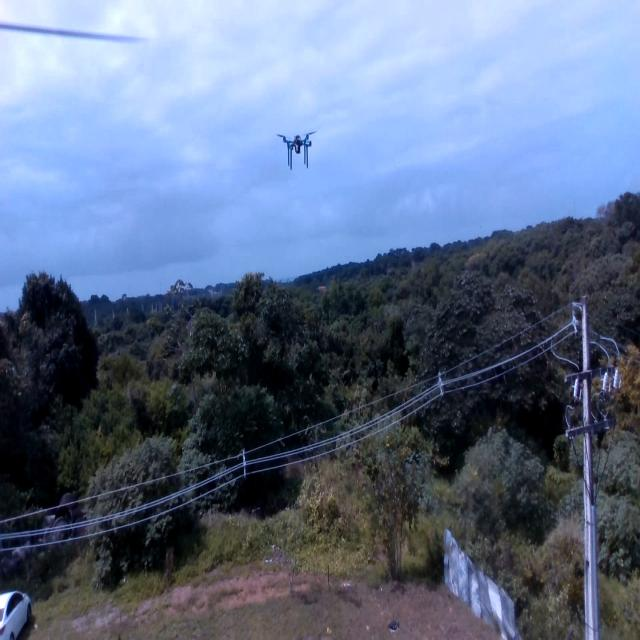-uav-: (276, 108, 319, 175)
